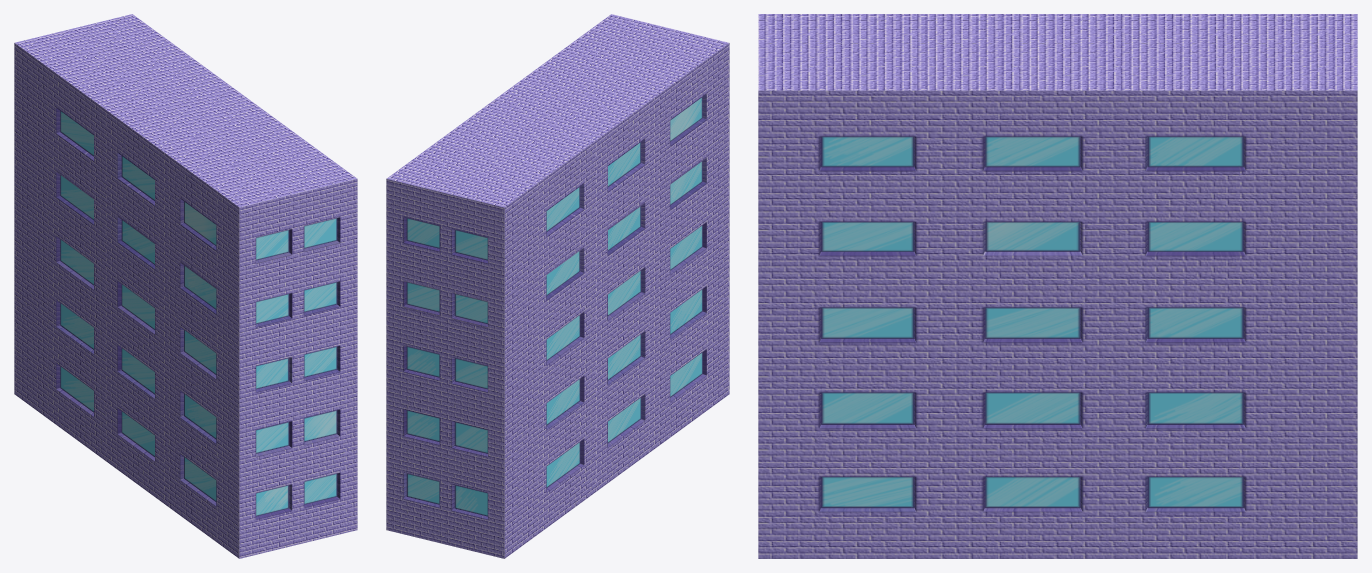
File: edificio2.fbx
3 views of the same model, side by side, from view 1: azimuth 30°, elevation 25°; view 2: azimuth 150°, elevation 25°; view 3: azimuth 270°, elevation 25° (orthographic). The views are drawn at different scales.
Visible parts, largest first — view 1: edificio2; view 2: edificio2; view 3: edificio2.
Boxes of the visible parts, left/top/right/bottom form: edificio2: left=14, top=14, right=357, bottom=558; edificio2: left=386, top=14, right=729, bottom=558; edificio2: left=758, top=14, right=1357, bottom=558.
Bounding box in the file's own units: 9.46 × 26.9 × 31.22.
